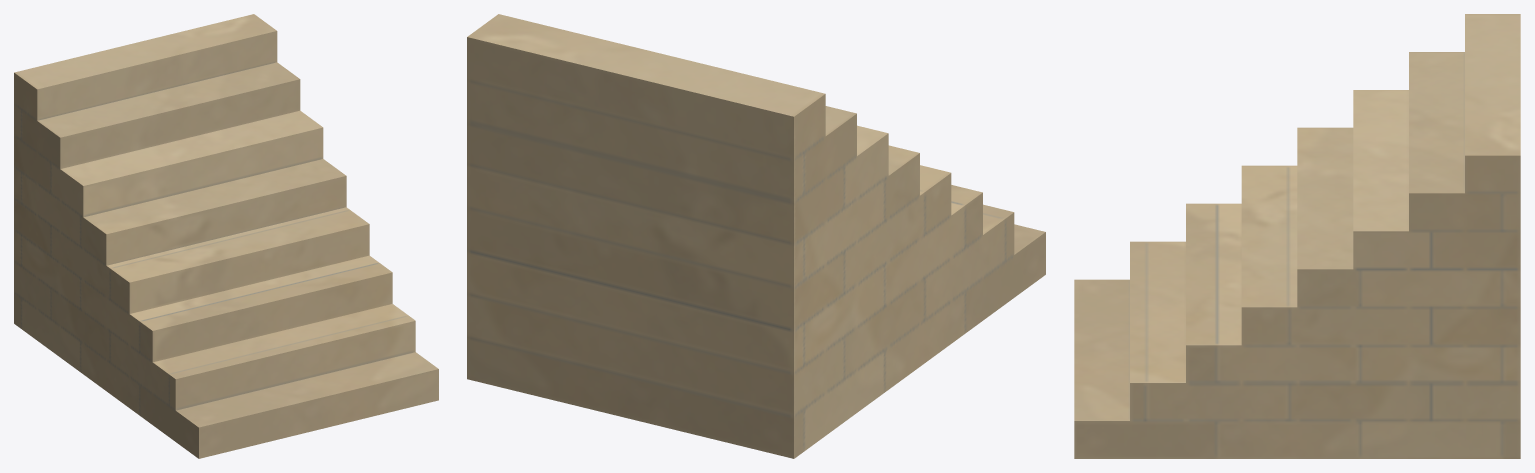
3 renders of one model, left to right at view 1: azimuth 30°, elevation 25°; view 2: azimuth 150°, elevation 25°; view 3: azimuth 270°, elevation 25°, orthographic. The views are drawn at different scales.
Parts seen in each view (by area): view 1: L20_Baked; view 2: L20_Baked; view 3: L20_Baked.
Boxes of the visible parts, x1,y1,x2,y2 form: L20_Baked: (14, 14, 438, 458); L20_Baked: (467, 14, 1045, 458); L20_Baked: (1074, 14, 1520, 458).
Size of the model in its own units: 150 by 150 by 200.
